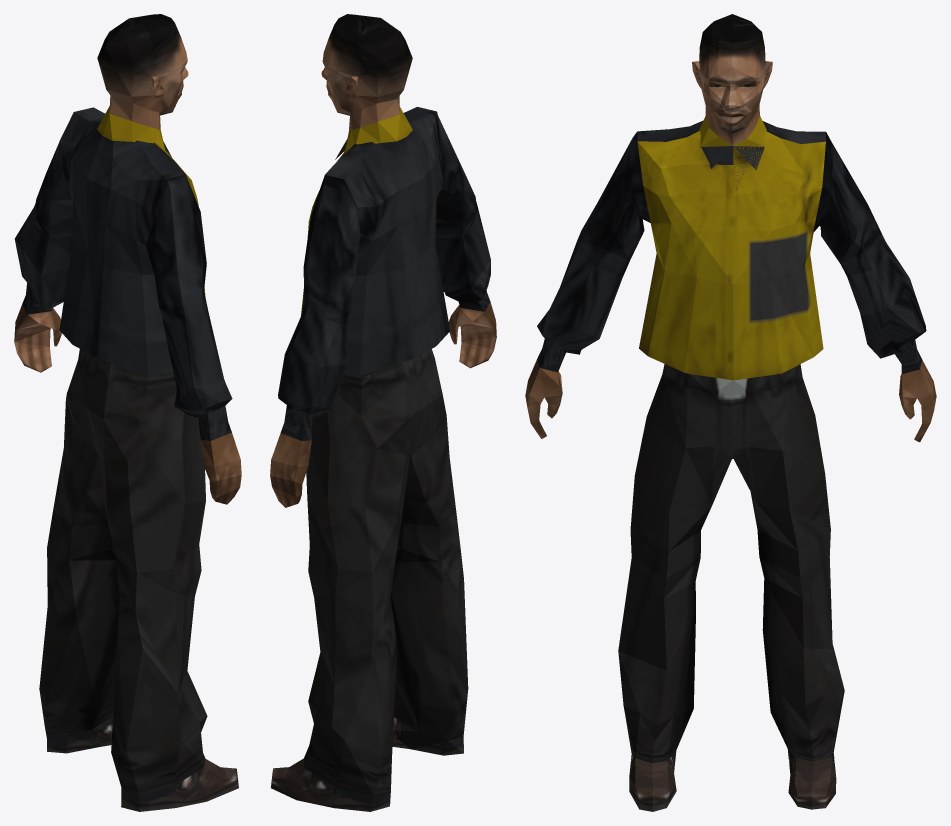
Rendered from bmyri.obj.
The picture shows the model from 3 angles, left to right: view 1: azimuth 30°, elevation 25°; view 2: azimuth 150°, elevation 25°; view 3: azimuth 270°, elevation 25°; orthographic projection. The views are drawn at different scales.
Visible parts, largest first — view 1: _Pelvis; view 2: _Pelvis; view 3: _Pelvis.
Boxes of the visible parts, <box> form: _Pelvis: <box>14,14,241,811</box>; _Pelvis: <box>270,14,496,811</box>; _Pelvis: <box>525,14,936,811</box>.
Size of the model in its own units: 0.3344 by 1.89 by 0.9224.
Materials: 1 (1 with a texture image).
